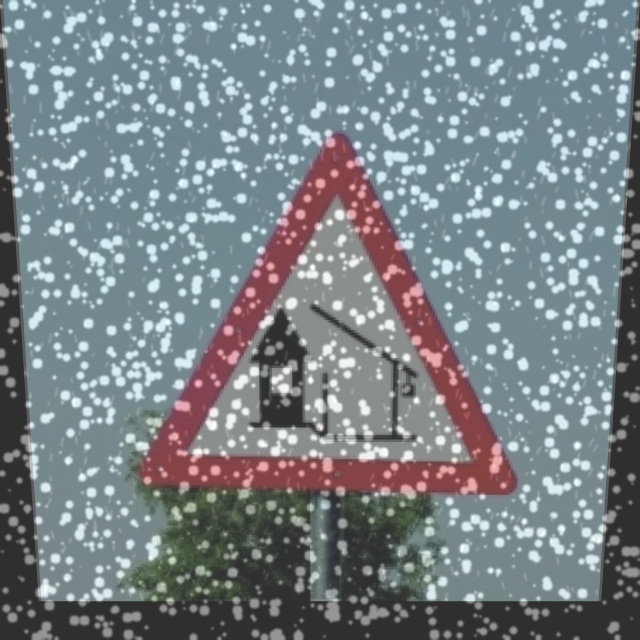Barrier_Ahead: (143, 134, 519, 499)
